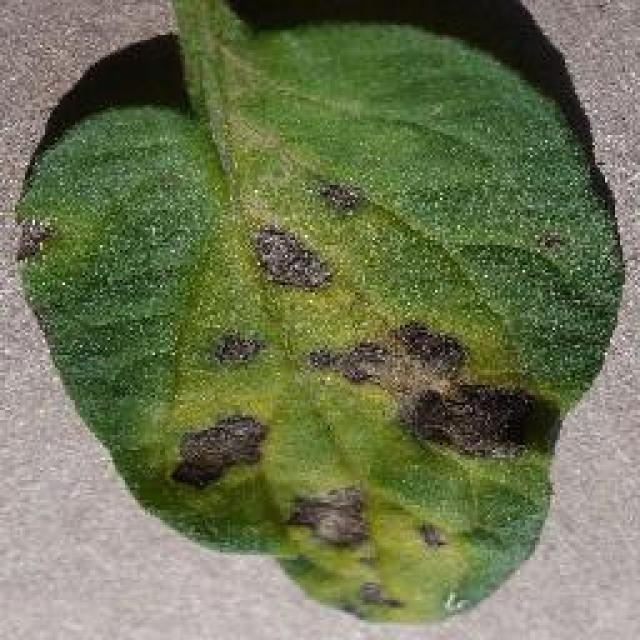Tomato___Early_blight: (13, 0, 626, 624)
